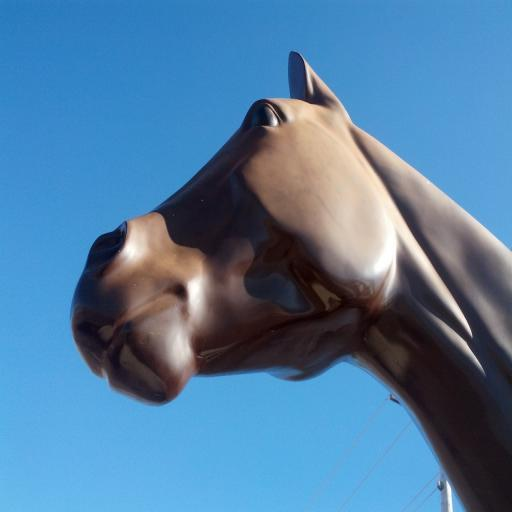horse: (68, 50, 512, 512)
